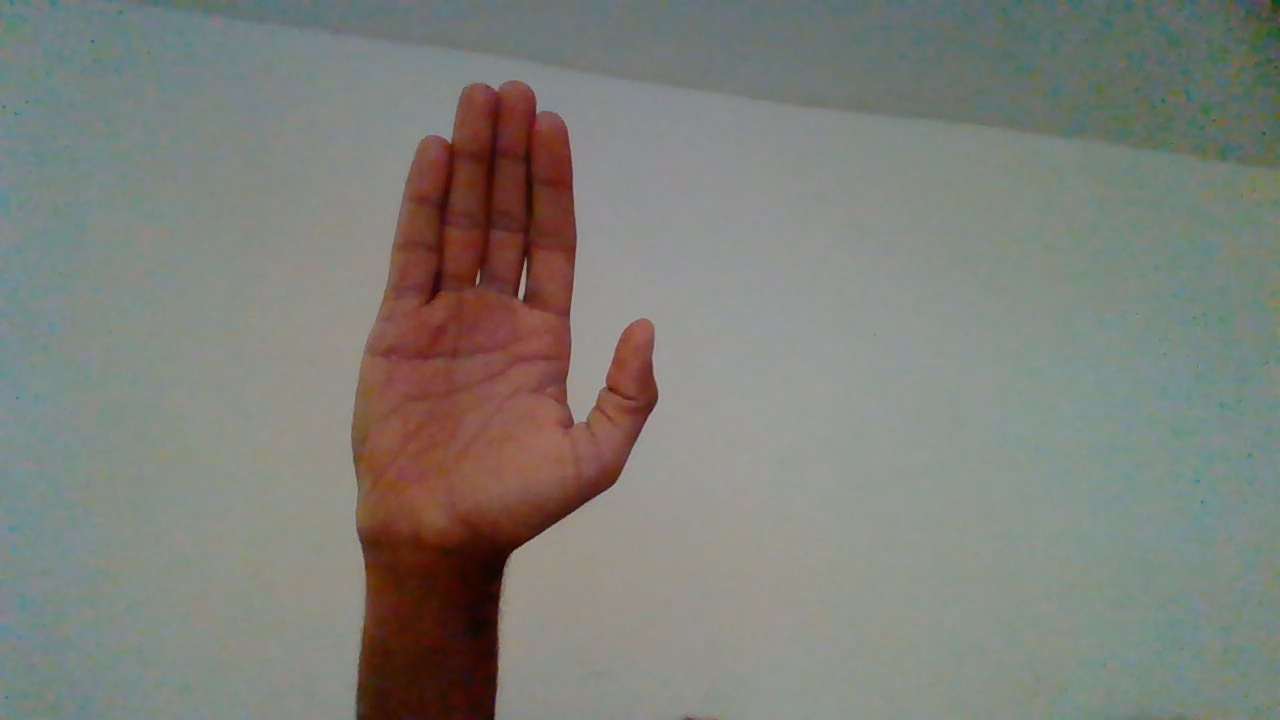ha: (345, 81, 663, 614)
